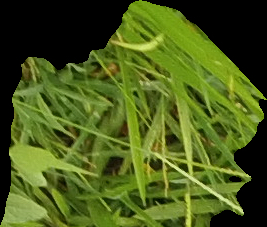grass: (1, 1, 266, 226)
